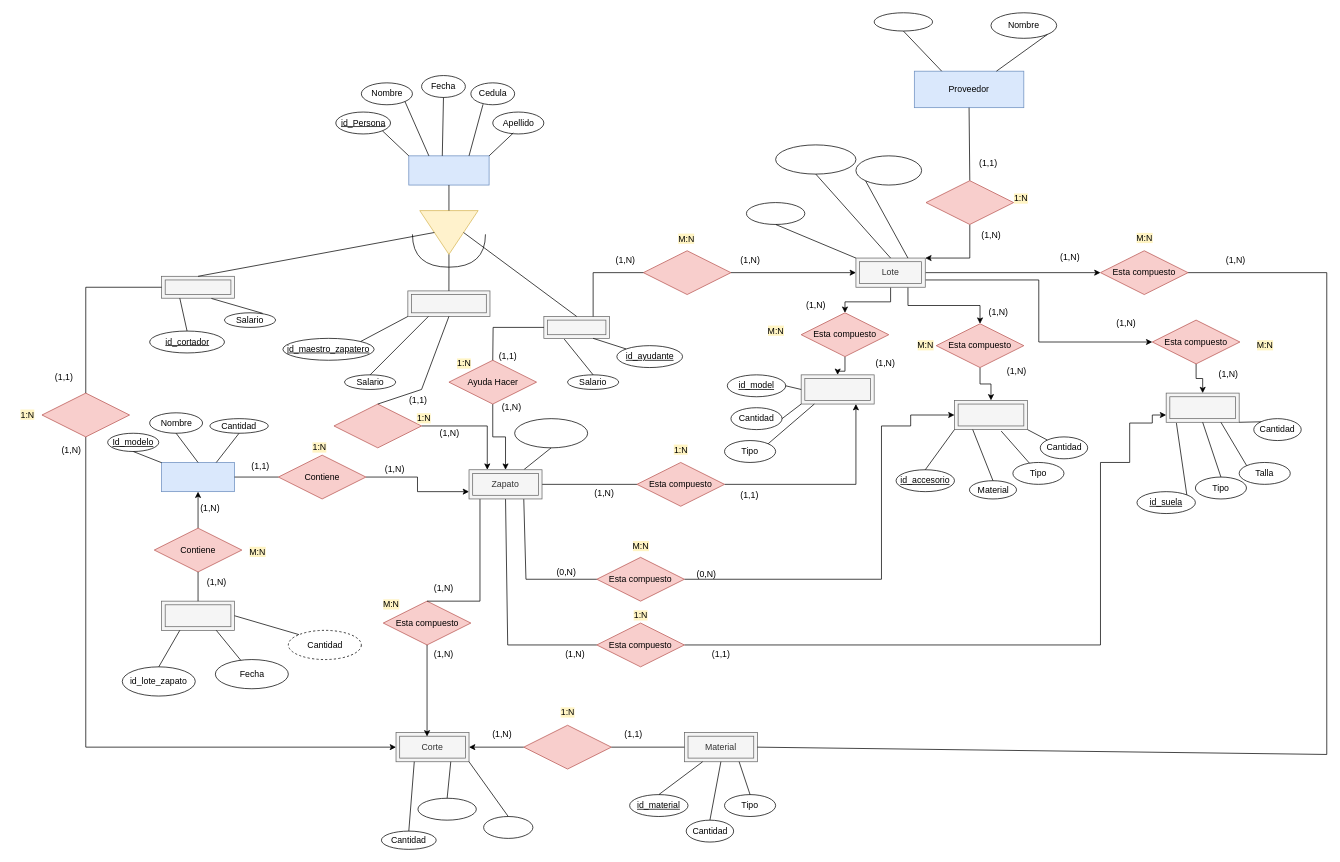
Some shapes in this 1340 by 862 pixel diagram are drawn without their labels. The shapes that lost their labels are listed below. From the top down, each one's centre as x and y in pixels, then its label:
At [903,21]: "id_Proveedor".
At [448,170]: "Persona".
At [815,159]: "Fecha_de_Agotado".
At [888,170]: "Fecha_Entrada".
At [775,213]: "id_lote".
At [969,202]: "Genera".
At [198,287]: "Cortador".
At [687,272]: "Gestiona".
At [448,303]: "Maestro_zapatero".
At [576,327]: "Ayudante".
At [837,389]: "Molde".
At [1202,407]: "Suela".
At [85,414]: "Realiza".
At [377,425]: "Hace".
At [551,433]: "id_zapato".
At [990,415]: "Accesorio".
At [198,477]: "Modelo".
At [198,615]: "Lote_zapato".
At [567,747]: "Produce".
At [446,809]: "id_corte".
At [508,827]: "Tamaño".
